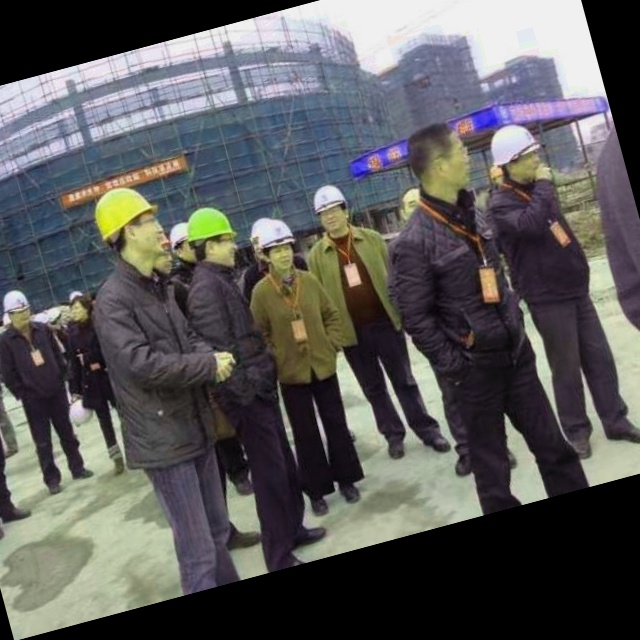Con_Casco: (91, 178, 170, 267), (311, 179, 357, 235)
Sin_Casco_Mascarrilla: (396, 113, 481, 201)
Sin_Chaleco: (253, 264, 345, 392)
